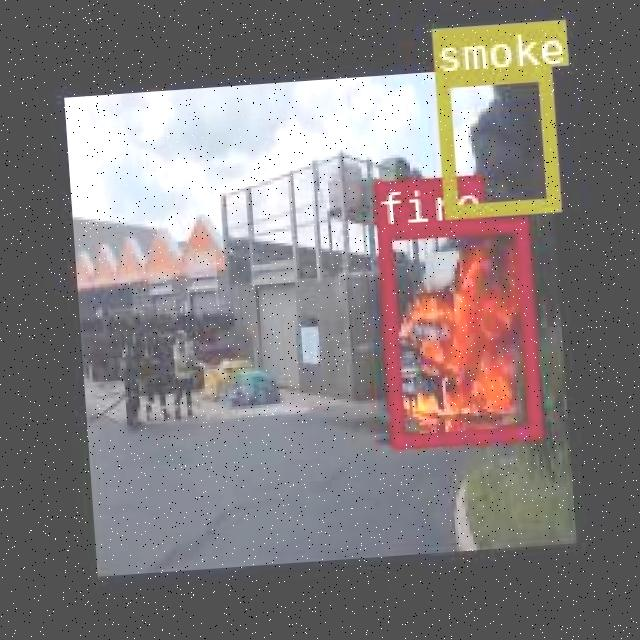fire: (376, 215, 538, 446)
smoke: (433, 63, 556, 217)
